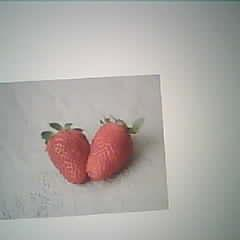straw-ripe: (87, 123, 133, 177), (47, 129, 88, 183)
